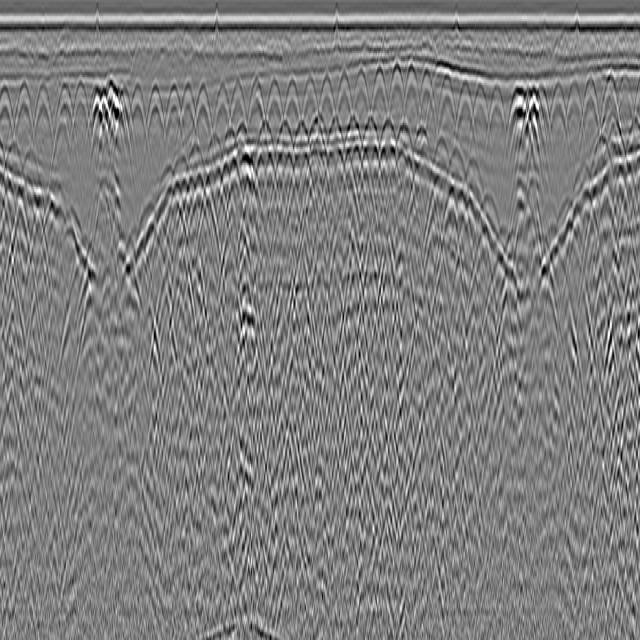hyperbola: (68, 64, 89, 174), (32, 62, 52, 174), (331, 55, 354, 143), (54, 68, 74, 163), (192, 68, 212, 158), (417, 55, 437, 145), (434, 58, 454, 148), (15, 71, 32, 171), (0, 65, 14, 181), (487, 77, 505, 166), (453, 68, 472, 150), (598, 68, 616, 153), (211, 64, 229, 146), (551, 80, 566, 178), (50, 100, 68, 181), (262, 68, 283, 135), (470, 84, 489, 158), (130, 74, 147, 156), (300, 58, 318, 135), (162, 80, 180, 156), (615, 65, 633, 141), (147, 78, 164, 158), (246, 71, 266, 138), (507, 84, 525, 158), (120, 81, 134, 176), (564, 78, 581, 156), (352, 56, 369, 132), (281, 64, 301, 128), (581, 77, 599, 148), (229, 74, 249, 135), (402, 55, 419, 125), (388, 55, 404, 128), (178, 78, 195, 146), (318, 65, 334, 135), (369, 68, 388, 122), (86, 87, 102, 151), (537, 68, 549, 150)
